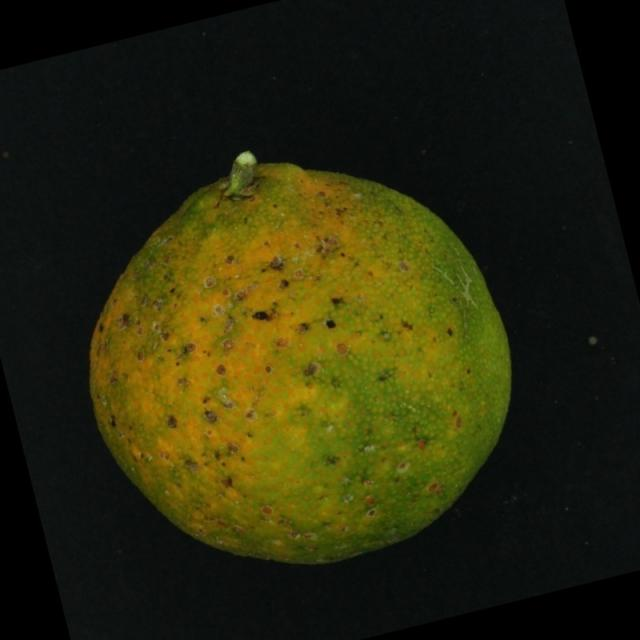grenning: (58, 102, 552, 600)
